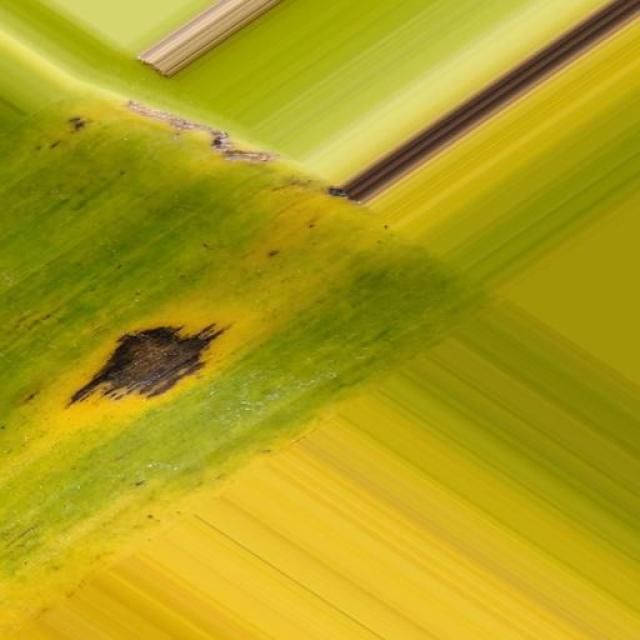Early_rust: (20, 161, 278, 447)
